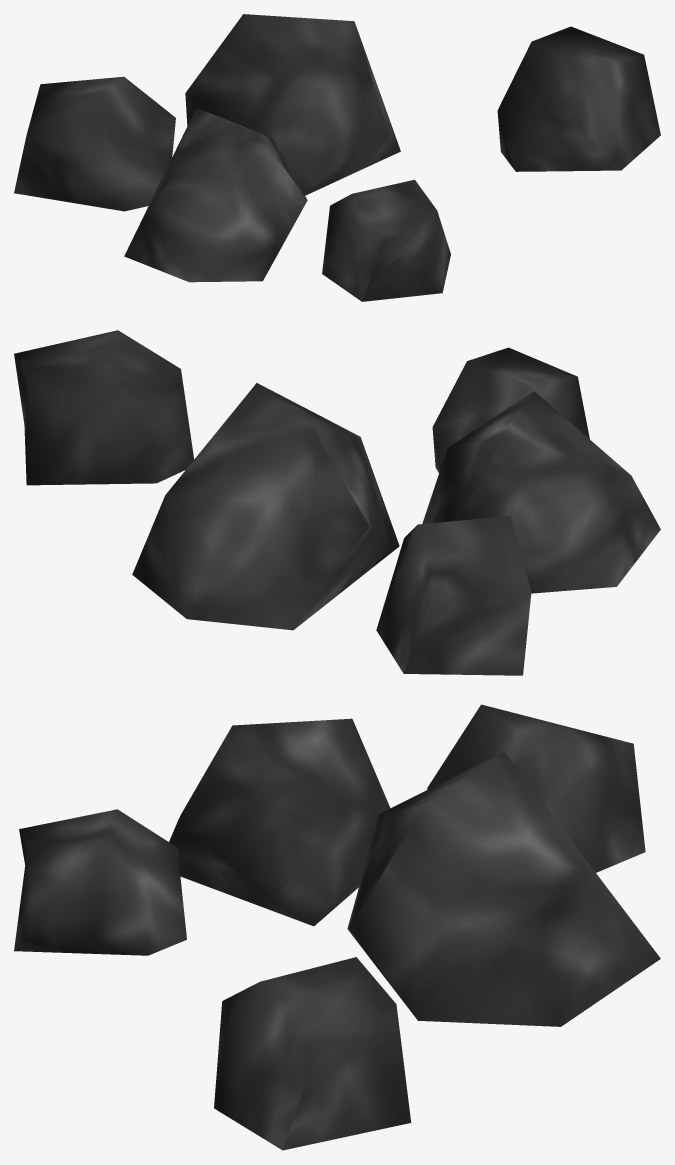
The model's file is Mine_Ore.fbx.
The picture shows the model from 3 angles, top to bottom: view 1: azimuth 30°, elevation 25°; view 2: azimuth 150°, elevation 25°; view 3: azimuth 270°, elevation 25°; orthographic projection. The views are drawn at different scales.
Visible parts, largest first — view 1: polySurface1542; view 2: polySurface1542; view 3: polySurface1542.
Boxes of the visible parts, <box> form: polySurface1542: <box>14,14,660,301</box>; polySurface1542: <box>14,330,660,675</box>; polySurface1542: <box>14,704,660,1150</box>.
Size of the model in its own units: 57.68 by 15 by 45.68.
Materials: 1 (1 with a texture image).
